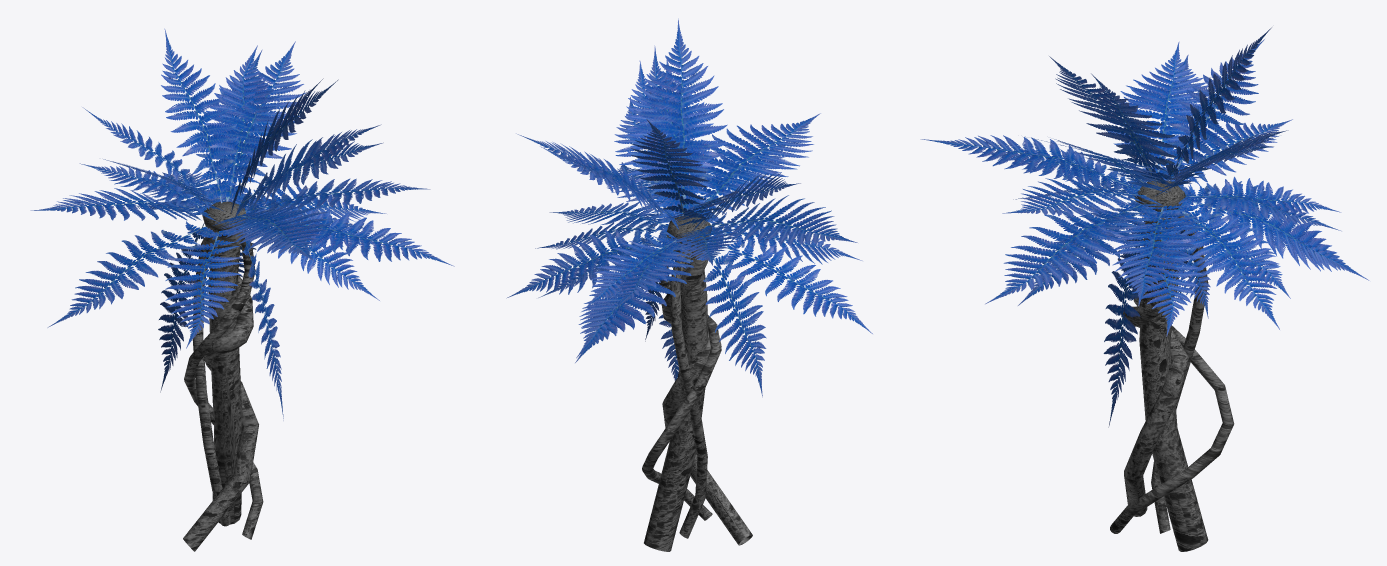
Rendered from Fern_Tall.fbx.
3 renders of one model, left to right at view 1: azimuth 30°, elevation 25°; view 2: azimuth 150°, elevation 25°; view 3: azimuth 270°, elevation 25°, orthographic. The views are drawn at different scales.
Visible parts, largest first — view 1: BezierCurve.003; view 2: BezierCurve.003; view 3: BezierCurve.003.
Part boxes in pixels (x1,y1,x2,y2): BezierCurve.003: (30,28,454,551); BezierCurve.003: (506,18,872,551); BezierCurve.003: (920,27,1369,551).
Bounding box in the file's own units: 227 × 294 × 233.
